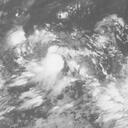cyclone: (24, 45, 74, 93)
